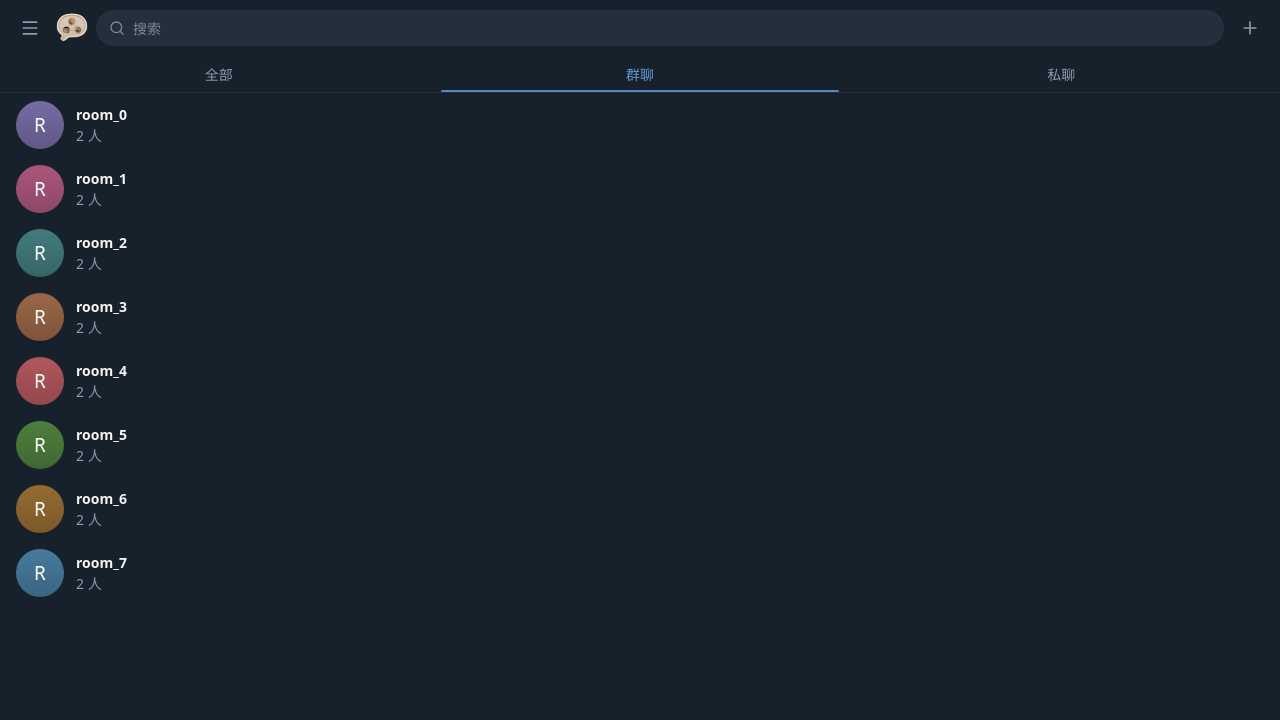
Test: ConversationSidebar › hides the search field while there are only a few conversations and shows it for many
Type "room_3" into the search field labelled "搜索". click: (672, 28)
box: [133,18,1211,38]
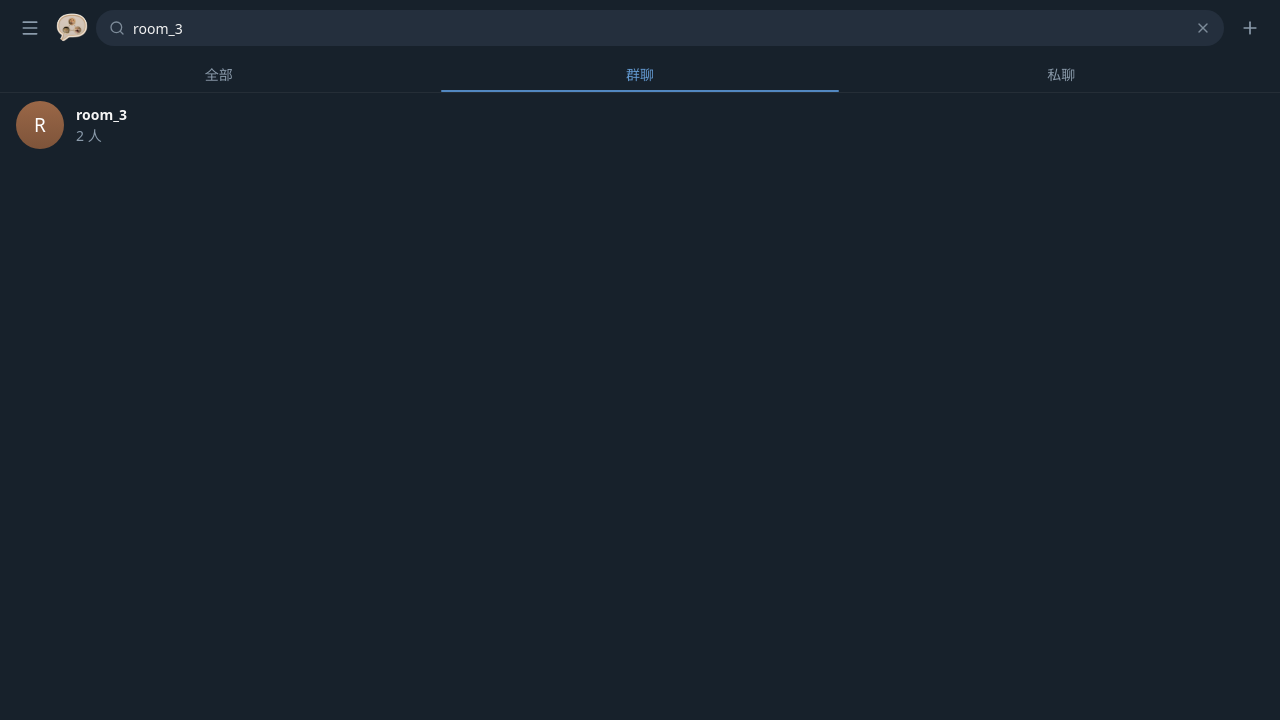
Expected: the button with aria-label "room-room_3" is shown, [8,93,1272,157]
Result: the button "room-room_4" is gone
